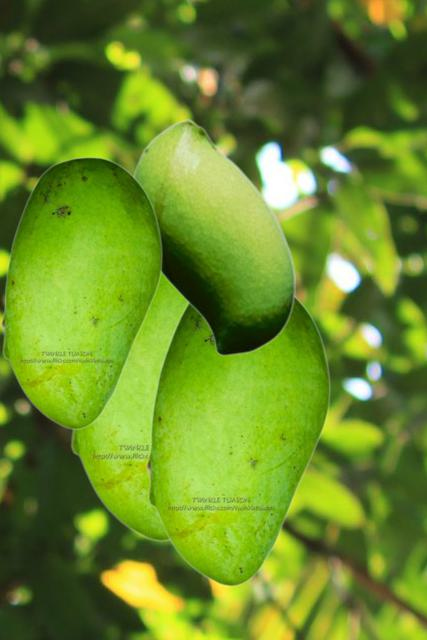green_mango: (145, 295, 330, 586), (0, 156, 162, 429), (132, 118, 294, 355), (70, 276, 186, 541)
